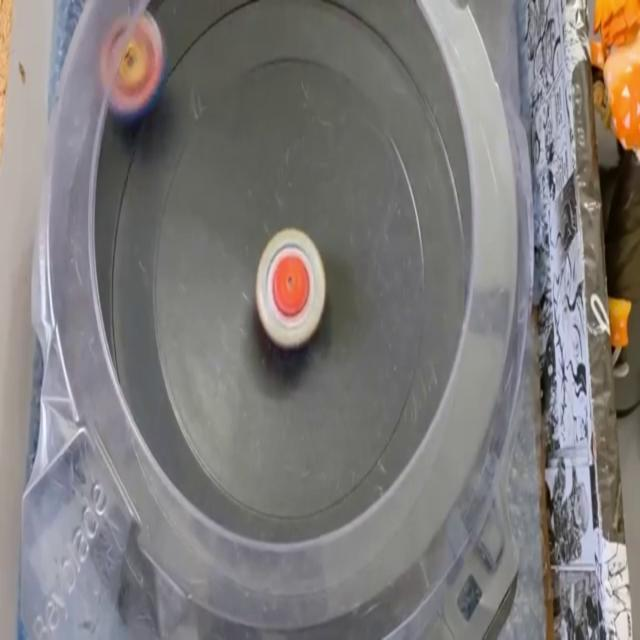Beyblade: (256, 227, 326, 353), (96, 7, 166, 125)
